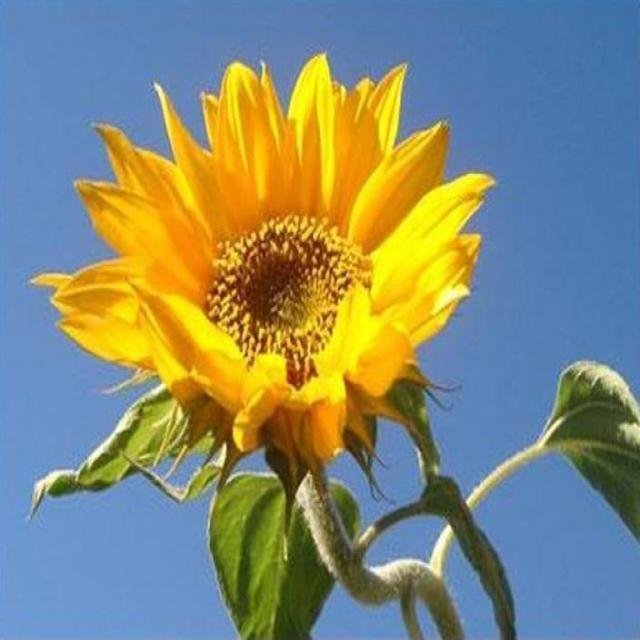sunflower: (31, 43, 494, 484)
